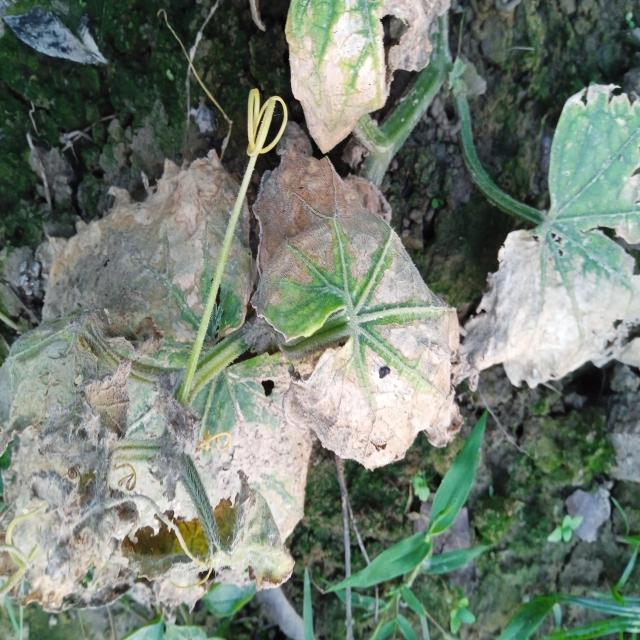cucumber_bacterial: (8, 353, 180, 607), (456, 188, 640, 389), (200, 353, 306, 589), (278, 8, 436, 138), (318, 326, 444, 481)
